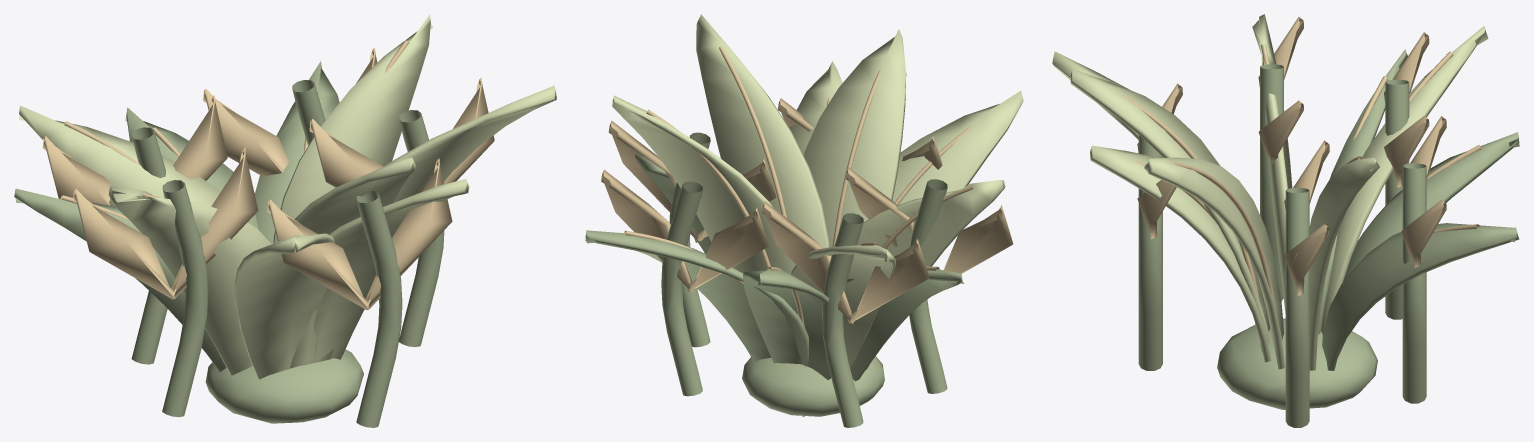
The model's file is bio_mist_leaf_17_far.glb.
3 views of the same model, side by side, from view 1: azimuth 30°, elevation 25°; view 2: azimuth 150°, elevation 25°; view 3: azimuth 270°, elevation 25° (orthographic). The views are drawn at different scales.
Parts seen in each view (by area): view 1: Cupped condensate leaf.008, Cupped condensate leaf.007, Cupped condensate leaf.004, Root rosette, Secondary fan lobe.008, Secondary fan lobe.004, Cupped condensate leaf.010, Branching support.002, Cupped condensate leaf.001, Branching support.004, Cupped condensate leaf.005, Secondary fan lobe.002 (+9 smaller); view 2: Cupped condensate leaf.002, Cupped condensate leaf.005, Cupped condensate leaf.008, Cupped condensate leaf.003, Cupped condensate leaf.007, Cupped condensate leaf.006, Root rosette, Secondary fan lobe.002, Secondary fan lobe.006, Cupped condensate leaf.004, Branching support.001, Branching support.003 (+13 smaller); view 3: Cupped condensate leaf.003, Root rosette, Cupped condensate leaf.005, Cupped condensate leaf.001, Cupped condensate leaf.002, Branching support, Cupped condensate leaf.010, Branching support.003, Cupped condensate leaf.006, Cupped condensate leaf.008, Branching support.002, Cupped condensate leaf.004 (+11 smaller).
Part boxes in pixels (left/top/right/bottom): Cupped condensate leaf.008: left=273, top=14, right=432, bottom=243; Cupped condensate leaf.007: left=234, top=233, right=335, bottom=379; Cupped condensate leaf.004: left=108, top=186, right=271, bottom=375; Root rosette: left=205, top=349, right=363, bottom=423; Secondary fan lobe.008: left=73, top=147, right=258, bottom=299; Secondary fan lobe.004: left=267, top=158, right=452, bottom=309; Cupped condensate leaf.010: left=314, top=179, right=469, bottom=362; Branching support.002: left=356, top=191, right=402, bottom=427; Cupped condensate leaf.001: left=19, top=105, right=250, bottom=224; Branching support.004: left=162, top=180, right=208, bottom=417; Cupped condensate leaf.005: left=343, top=85, right=556, bottom=353; Secondary fan lobe.002: left=42, top=95, right=227, bottom=205; Cupped condensate leaf.002: left=803, top=29, right=906, bottom=247; Cupped condensate leaf.005: left=696, top=14, right=829, bottom=248; Cupped condensate leaf.008: left=612, top=95, right=795, bottom=274; Cupped condensate leaf.003: left=585, top=230, right=808, bottom=366; Cupped condensate leaf.007: left=892, top=91, right=1023, bottom=205; Cupped condensate leaf.006: left=743, top=269, right=843, bottom=416; Root rosette: left=742, top=356, right=884, bottom=416; Secondary fan lobe.002: left=762, top=201, right=929, bottom=323; Secondary fan lobe.006: left=601, top=169, right=768, bottom=292; Cupped condensate leaf.004: left=857, top=180, right=1005, bottom=369; Branching support.001: left=822, top=213, right=863, bottom=427; Branching support.003: left=661, top=181, right=702, bottom=396; Cupped condensate leaf.003: left=1322, top=223, right=1519, bottom=370; Root rosette: left=1217, top=318, right=1377, bottom=409; Cupped condensate leaf.005: left=1144, top=157, right=1284, bottom=369; Cupped condensate leaf.001: left=1320, top=26, right=1488, bottom=334; Cupped condensate leaf.002: left=1070, top=69, right=1266, bottom=352; Branching support: left=1285, top=188, right=1309, bottom=427; Cupped condensate leaf.010: left=1090, top=145, right=1271, bottom=362; Branching support.003: left=1402, top=163, right=1426, bottom=403; Cupped condensate leaf.006: left=1343, top=132, right=1519, bottom=281; Cupped condensate leaf.008: left=1309, top=157, right=1379, bottom=408; Branching support.002: left=1138, top=135, right=1162, bottom=370; Cupped condensate leaf.004: left=1252, top=14, right=1292, bottom=313.
Bounding box in the file's own units: 1.88 × 1.38 × 1.74.
